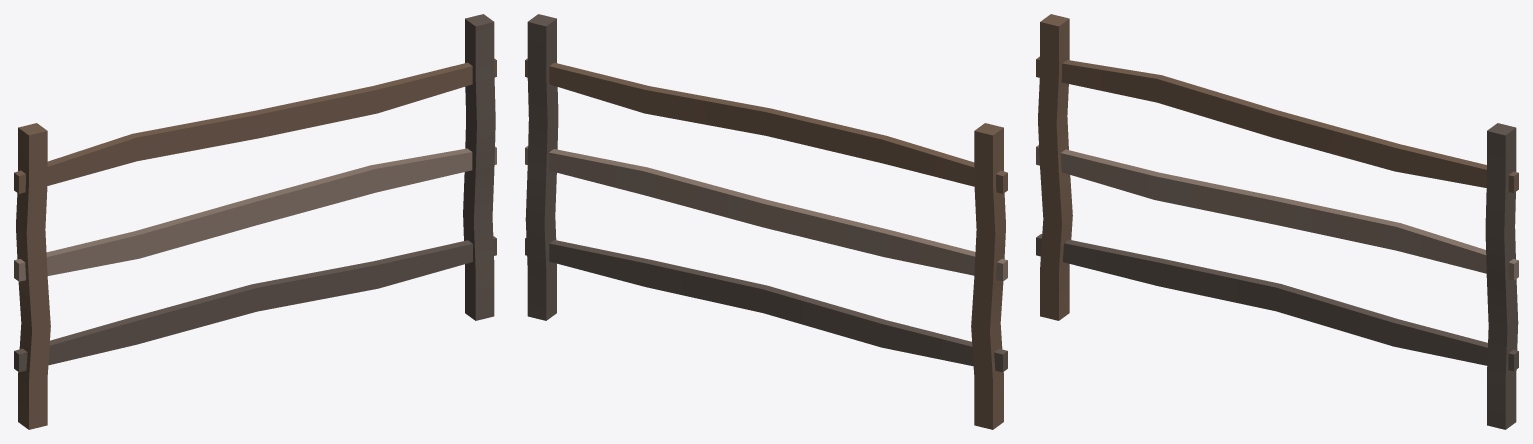
The model's file is fence_section.fbx.
3 views of the same model, side by side, from view 1: azimuth 30°, elevation 25°; view 2: azimuth 150°, elevation 25°; view 3: azimuth 330°, elevation 25° (orthographic).
Visible parts, largest first — view 1: pCube6; view 2: pCube6; view 3: pCube6.
Boxes of the visible parts, x1,y1,x2,y2 form: pCube6: (14, 14, 496, 429); pCube6: (525, 14, 1007, 429); pCube6: (1036, 14, 1518, 429).
Size of the model in its own units: 25.48 by 15 by 1.29.
